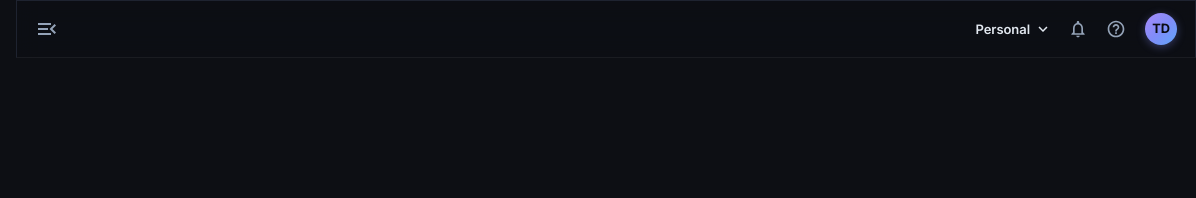
Test: TopBar › opens the account menu with the identity block and a sign-out option
Click the button with aria-label "account". click: x=1161, y=29
box: x1=1143 y1=11 x2=1179 y2=47
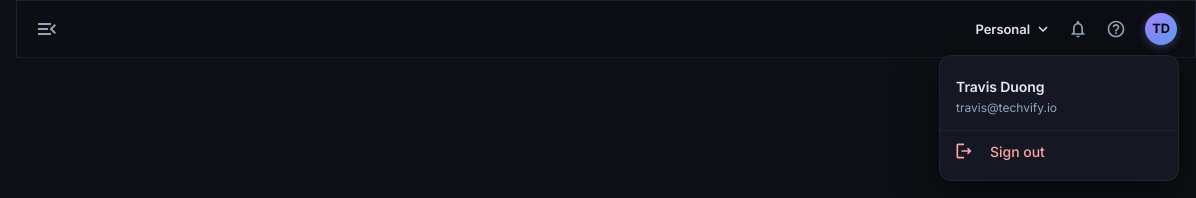
Expected: the text "Travis Duong" is shown, x1=956 y1=78 x2=1044 y2=95
Expected: the text "travis@techvify.io" is shown, x1=956 y1=100 x2=1057 y2=115
Expected: the menu item "Sign out" is shown, x1=954 y1=141 x2=1045 y2=161
